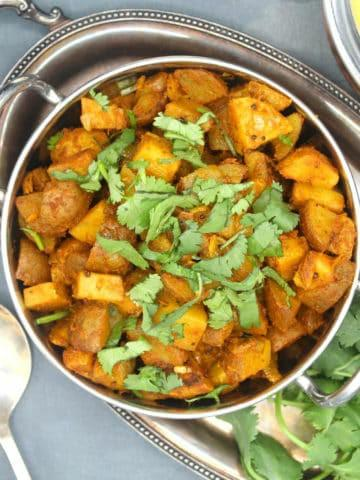AlooGobi: (15, 69, 357, 400)
